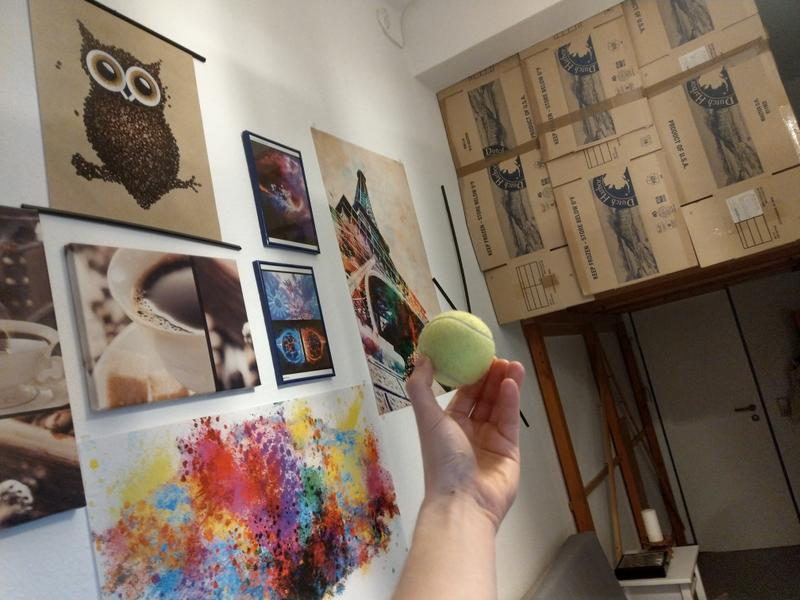Tennisball: (412, 309, 498, 392)
